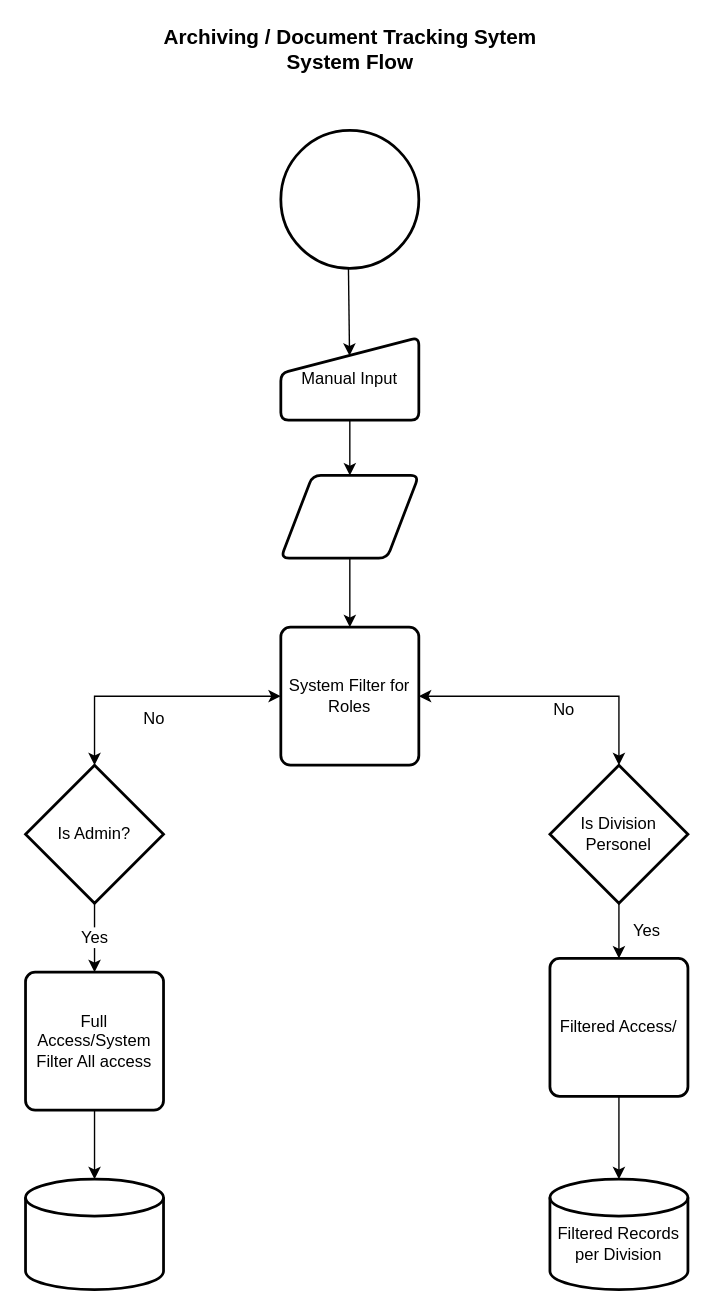
Image size: 712x1314. Some labels were removed from this diagram. Each missing label, with the box of its shape:
All Division Records: (23, 1177, 164, 1290)
Data: (279, 473, 420, 559)
START: (279, 128, 420, 269)
